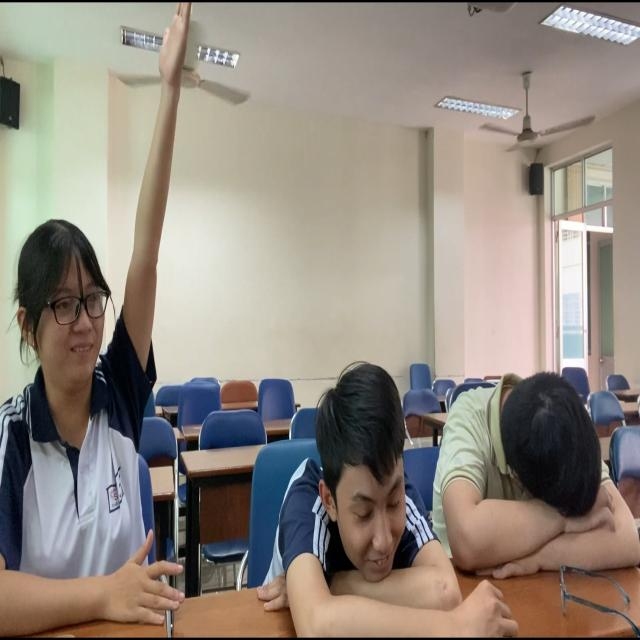raise_hand: (2, 1, 220, 640)
sleep: (271, 368, 454, 631), (437, 367, 639, 572)
